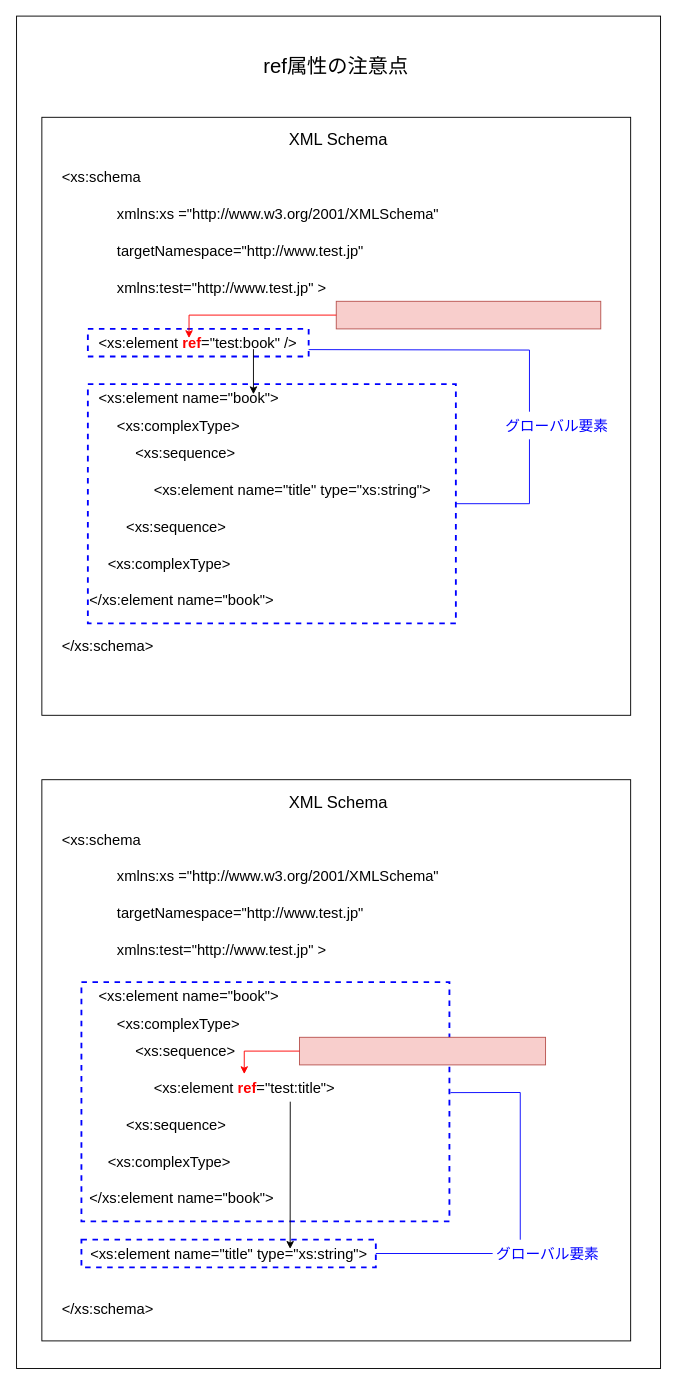
This 676x1385 diagram has some shape labels left out. Each missing label, with the centre of its shape:
"グローバル要素ではref属性は使えない" belongs at (x=468, y=314).
"ローカル要素ならばref属性が使える" belongs at (x=422, y=1050).
